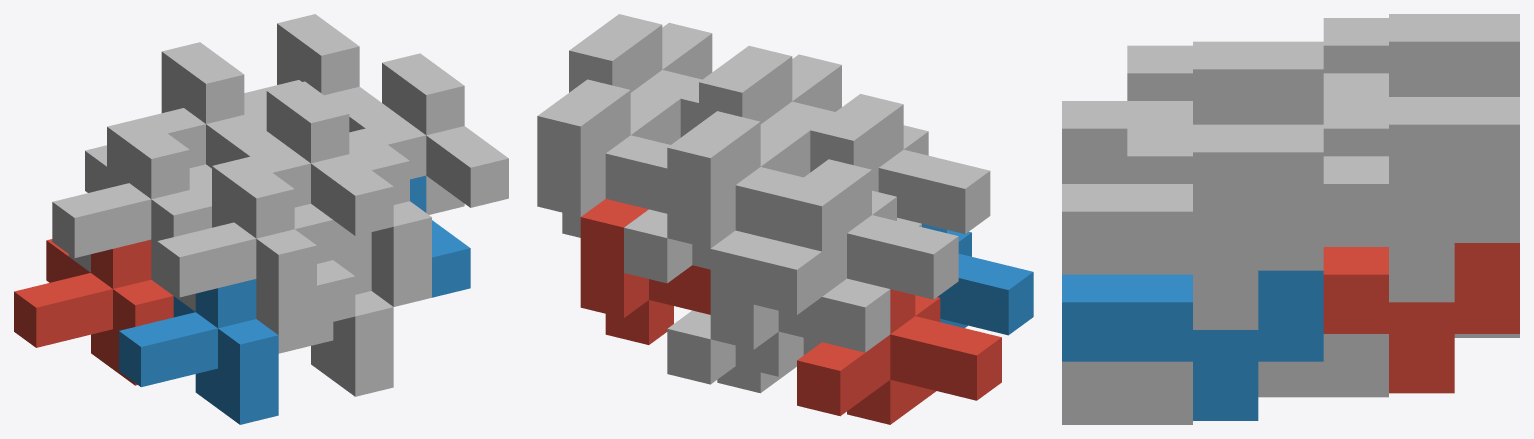
Rendered from tiling.obj.
3 views of the same model, side by side, from view 1: azimuth 30°, elevation 25°; view 2: azimuth 150°, elevation 25°; view 3: azimuth 270°, elevation 25° (orthographic). The views are drawn at different scales.
Visible parts, largest first — view 1: copy_1_domain_4, copy_1_domain_2, copy_2_domain_4, copy_2_domain_8, copy_1_domain_3, copy_1_domain_1, copy_2_domain_3, copy_1_domain_8, copy_1_domain_6, copy_2_domain_7, copy_2_domain_6, copy_2_domain_2 (+1 smaller); view 2: copy_2_domain_3, copy_2_domain_7, copy_1_domain_1, copy_1_domain_3, copy_2_domain_1, copy_2_domain_4, copy_2_domain_5, copy_1_domain_4, copy_2_domain_8, copy_1_domain_2, copy_1_domain_5, copy_1_domain_7; view 3: copy_2_domain_8, copy_2_domain_7, copy_2_domain_6, copy_2_domain_4, copy_2_domain_5, copy_2_domain_3, copy_1_domain_6, copy_1_domain_5, copy_1_domain_8, copy_1_domain_7, copy_1_domain_4, copy_1_domain_3.
Part boxes in pixels (box(x1,y1,x2,y2)): copy_1_domain_4: box(157, 173, 316, 335); copy_1_domain_2: box(119, 279, 278, 424); copy_2_domain_4: box(212, 81, 393, 235); copy_2_domain_8: box(349, 53, 508, 214); copy_1_domain_3: box(52, 133, 211, 295); copy_1_domain_1: box(14, 239, 173, 385); copy_2_domain_3: box(107, 42, 288, 182); copy_1_domain_8: box(294, 144, 431, 306); copy_1_domain_6: box(278, 250, 393, 396); copy_2_domain_7: box(244, 14, 403, 132); copy_2_domain_6: box(410, 175, 470, 297); copy_2_domain_2: box(173, 260, 355, 325); copy_2_domain_3: box(667, 111, 846, 269); copy_2_domain_7: box(537, 79, 680, 237); copy_1_domain_1: box(797, 289, 1001, 424); copy_1_domain_3: box(753, 159, 958, 314); copy_2_domain_1: box(710, 230, 890, 376); copy_2_domain_4: box(699, 45, 878, 172); copy_2_domain_5: box(580, 199, 710, 344); copy_1_domain_4: box(836, 94, 990, 233); copy_2_domain_8: box(569, 14, 712, 137); copy_1_domain_2: box(922, 224, 1033, 335); copy_1_domain_5: box(667, 310, 821, 393); copy_1_domain_7: box(624, 209, 692, 283); copy_2_domain_8: box(1062, 124, 1323, 329); copy_2_domain_7: box(1323, 97, 1519, 302); copy_2_domain_6: box(1062, 270, 1323, 420); copy_2_domain_4: box(1062, 41, 1323, 183); copy_2_domain_5: box(1323, 243, 1519, 393); copy_2_domain_3: box(1323, 14, 1519, 100); copy_1_domain_6: box(1062, 361, 1323, 424); copy_1_domain_5: box(1258, 334, 1519, 397); copy_1_domain_8: box(1062, 128, 1192, 274); copy_1_domain_7: box(1323, 101, 1388, 246); copy_1_domain_4: box(1127, 45, 1192, 100); copy_1_domain_3: box(1323, 18, 1388, 73).
Size of the model in its own units: 10 by 6 by 7.
